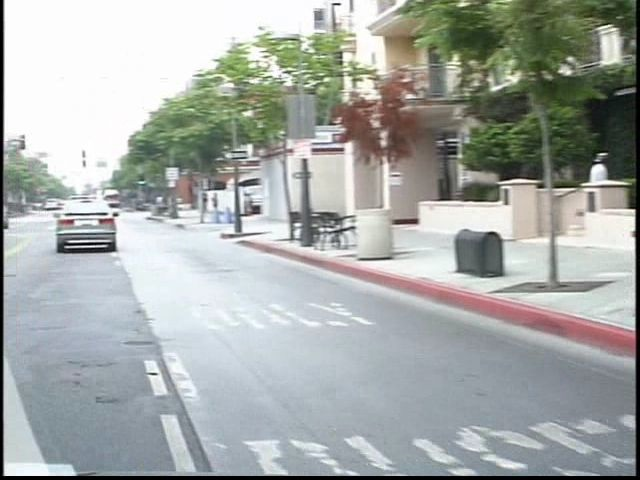person: (562, 144, 604, 243), (197, 185, 212, 219)
